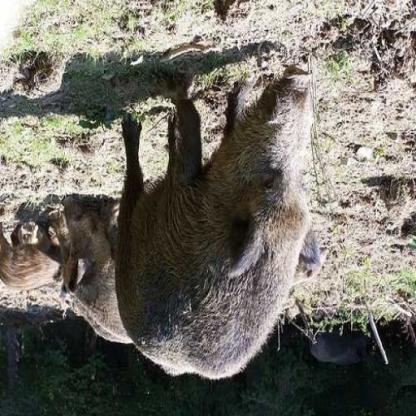boar: (122, 39, 337, 411)
